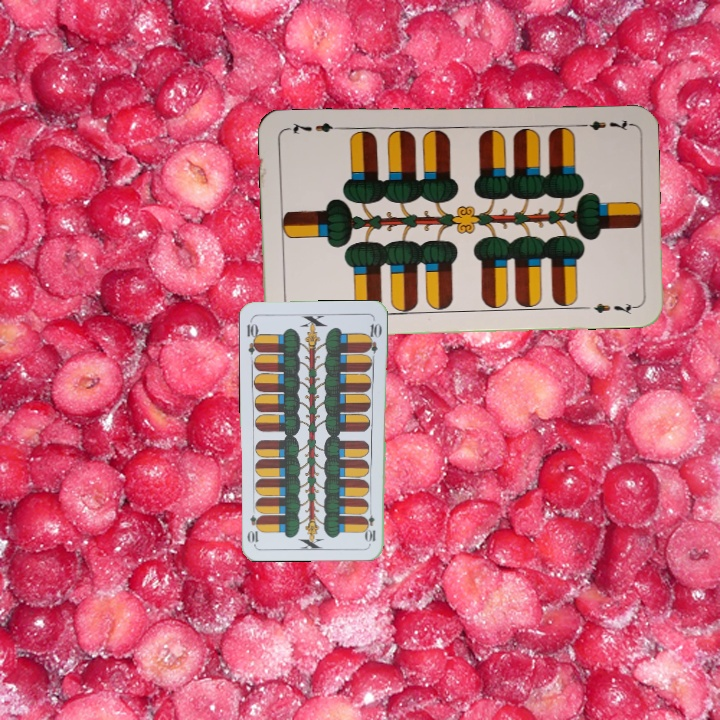E10: (243, 316, 262, 356), (364, 504, 378, 544)
E7: (573, 116, 632, 134)
